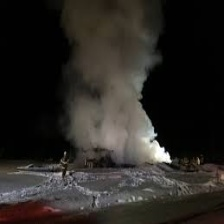smoke: (52, 5, 169, 157)
